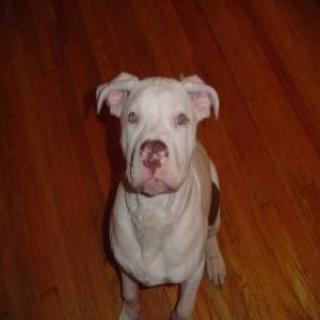dog: (94, 66, 235, 320)
